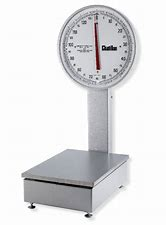Industrial Scale: (19, 3, 132, 220)
